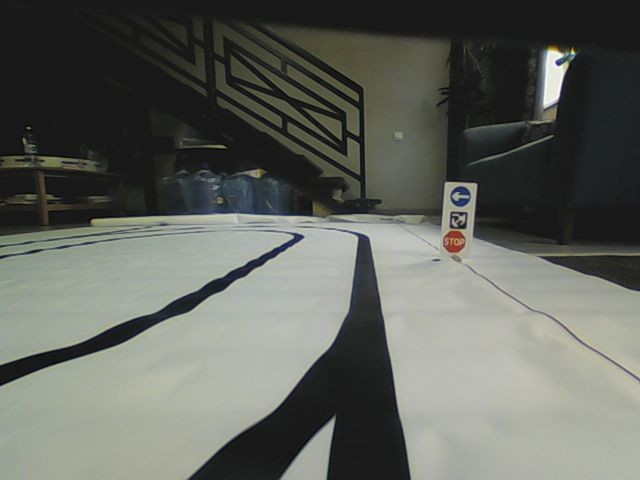Stop: (443, 230, 466, 254)
